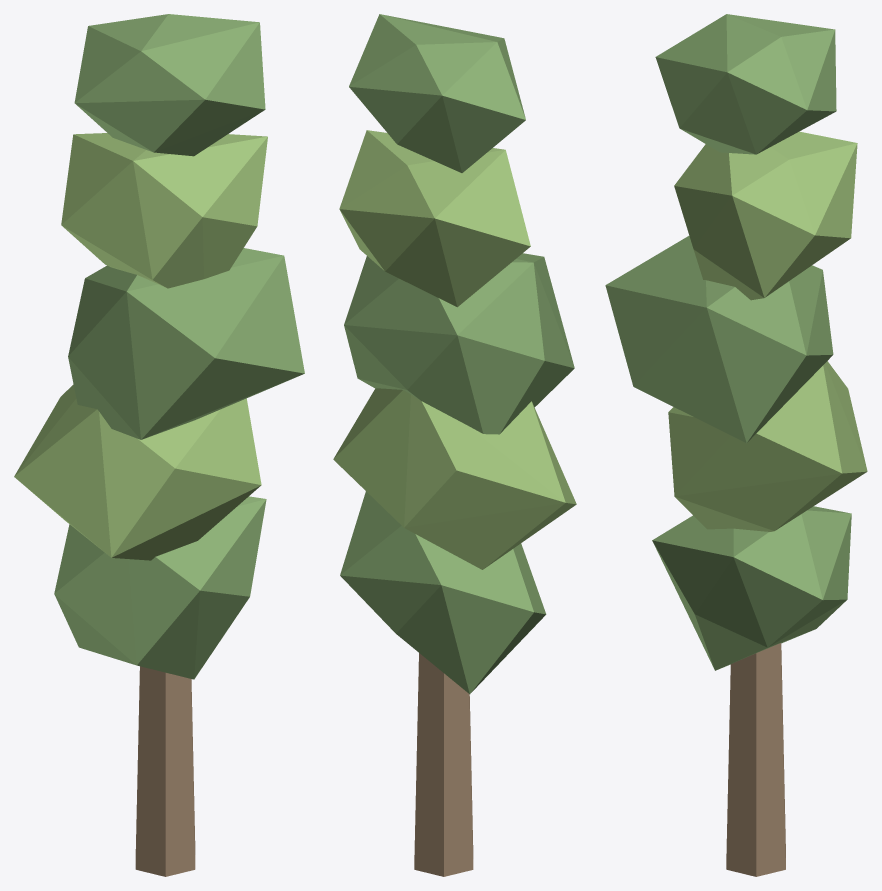
The model's file is tree_genpoplar.glb.
The picture shows the model from 3 angles, left to right: view 1: azimuth 30°, elevation 25°; view 2: azimuth 150°, elevation 25°; view 3: azimuth 270°, elevation 25°; orthographic projection.
Parts seen in each view (by area): view 1: hull; view 2: hull; view 3: hull.
Part boxes in pixels (<box>): hull: <box>14,14,304,876</box>; hull: <box>333,14,576,876</box>; hull: <box>605,14,867,876</box>.
Bounding box in the file's own units: 2.44 × 8.41 × 2.4.
